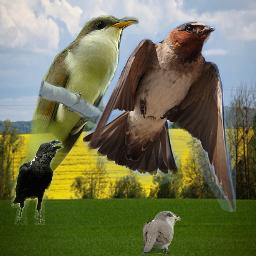Crow: (11, 138, 64, 225)
Cuckoo: (13, 15, 139, 199), (141, 211, 181, 255)
Swallow: (83, 21, 236, 212)
